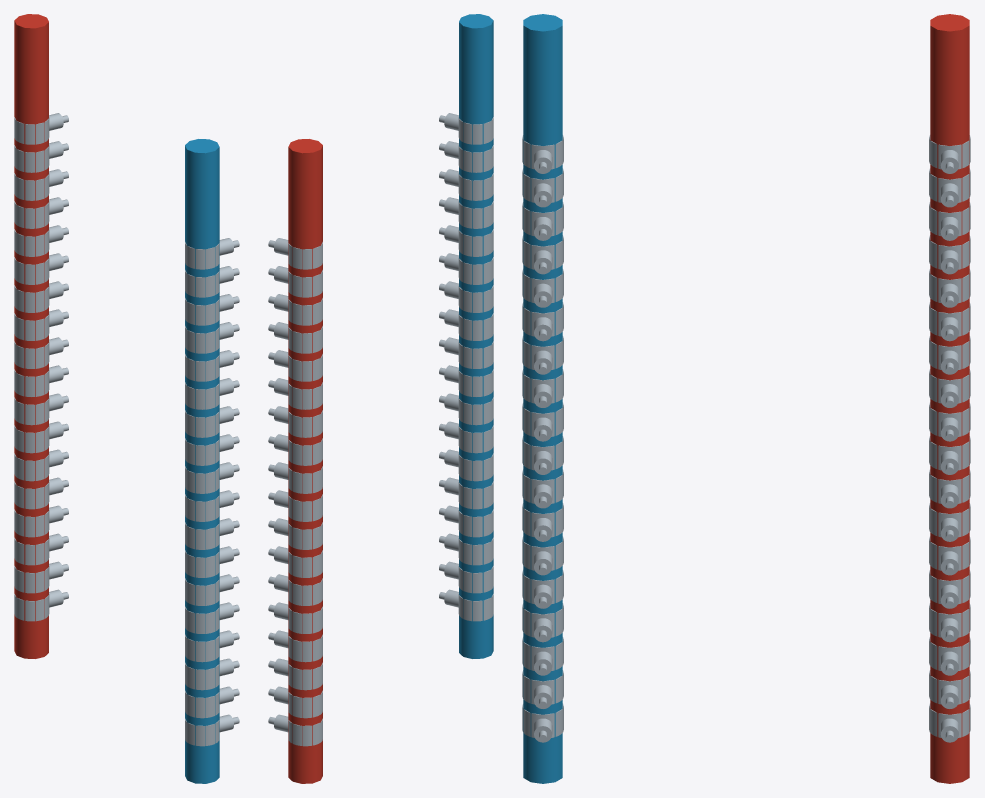
The model's file is SM_GJ_Manifolds.fbx.
The picture shows the model from 3 angles, left to right: view 1: azimuth 30°, elevation 25°; view 2: azimuth 150°, elevation 25°; view 3: azimuth 270°, elevation 25°; orthographic projection. The views are drawn at different scales.
Visible parts, largest first — view 1: SM_GJ_Manifolds; view 2: SM_GJ_Manifolds; view 3: SM_GJ_Manifolds.
Boxes of the visible parts, <box> form: SM_GJ_Manifolds: <box>14,14,239,783</box>; SM_GJ_Manifolds: <box>268,14,493,783</box>; SM_GJ_Manifolds: <box>522,14,970,783</box>.
Bounding box in the file's own units: 8.4 × 54 × 100.
